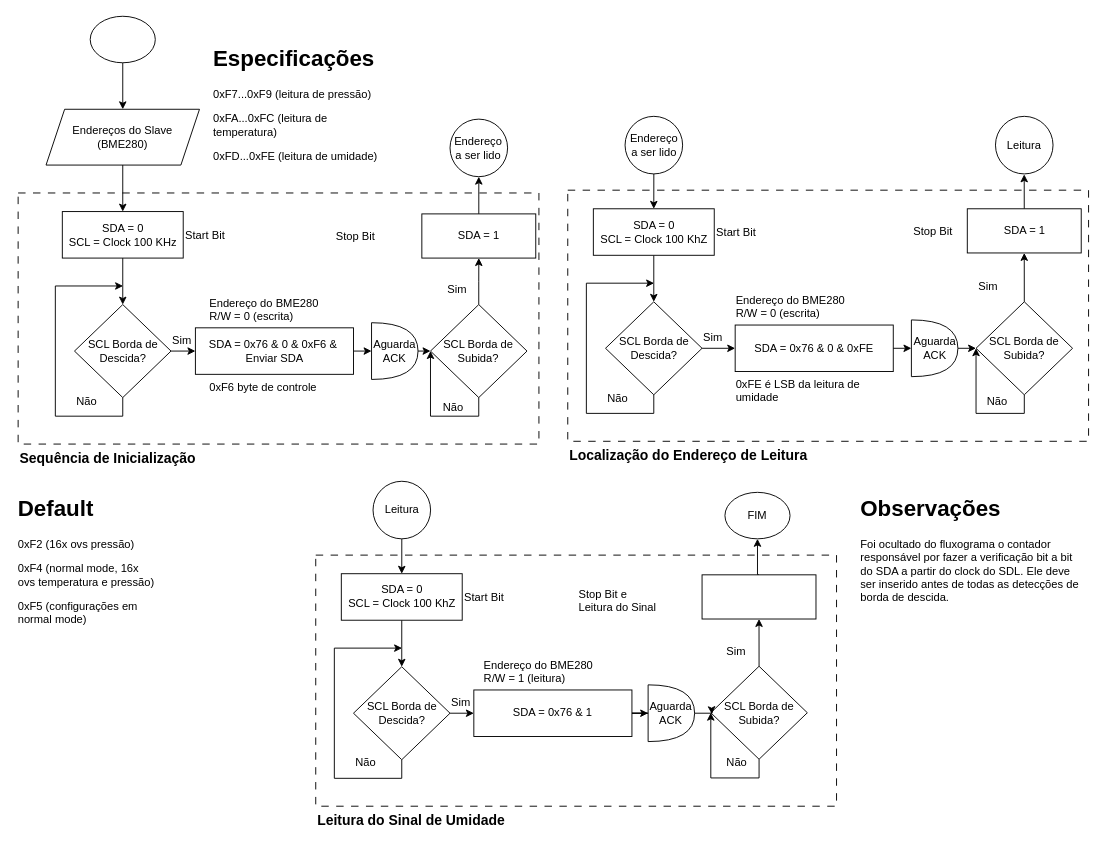
Some shapes in this 1105 by 850 pixel diagram are drawn without their labels. The box of each missing label's shape, as (x1, y1, x2, y2) in pixels:
INICIO: (89, 15, 155, 63)
Leitura = SDA[7:0] SDA = 1: (701, 574, 816, 619)
